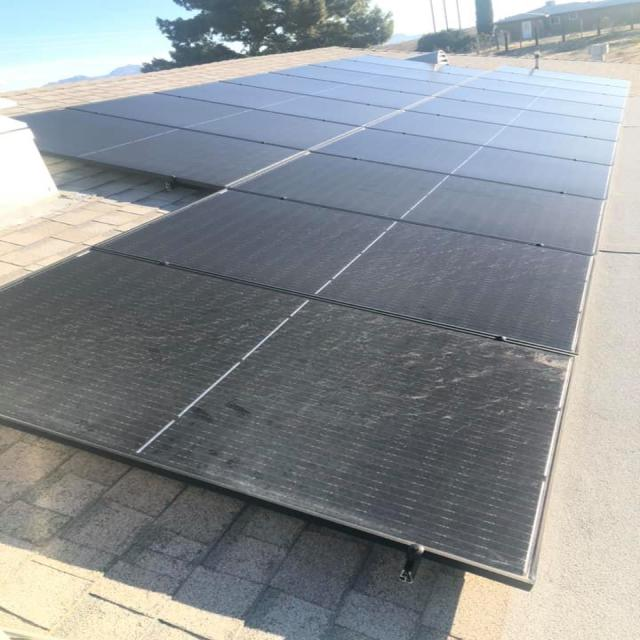dust-solar-panel: (0, 250, 578, 583)
